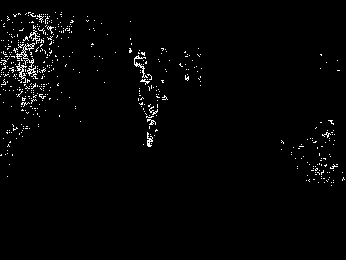person: (135, 74, 169, 148)
